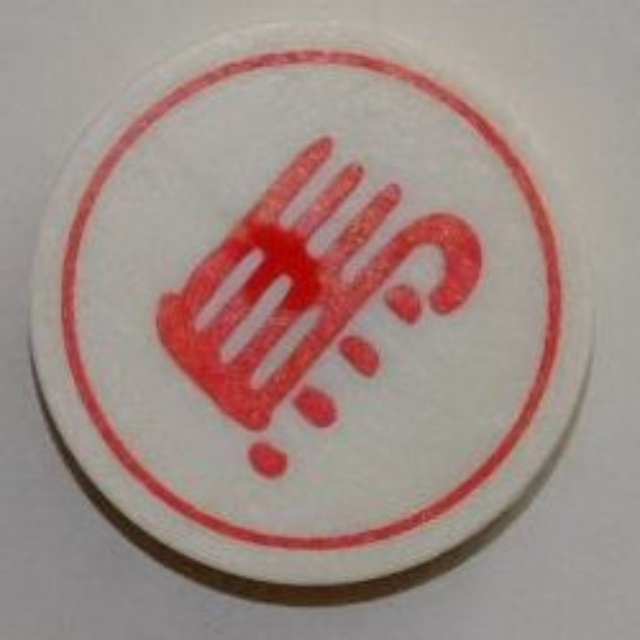red_ma: (22, 13, 600, 595)
